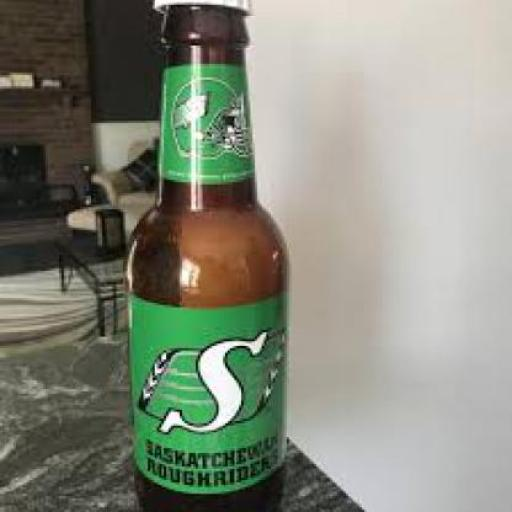glass: (120, 4, 286, 510)
metal: (150, 0, 249, 11)
